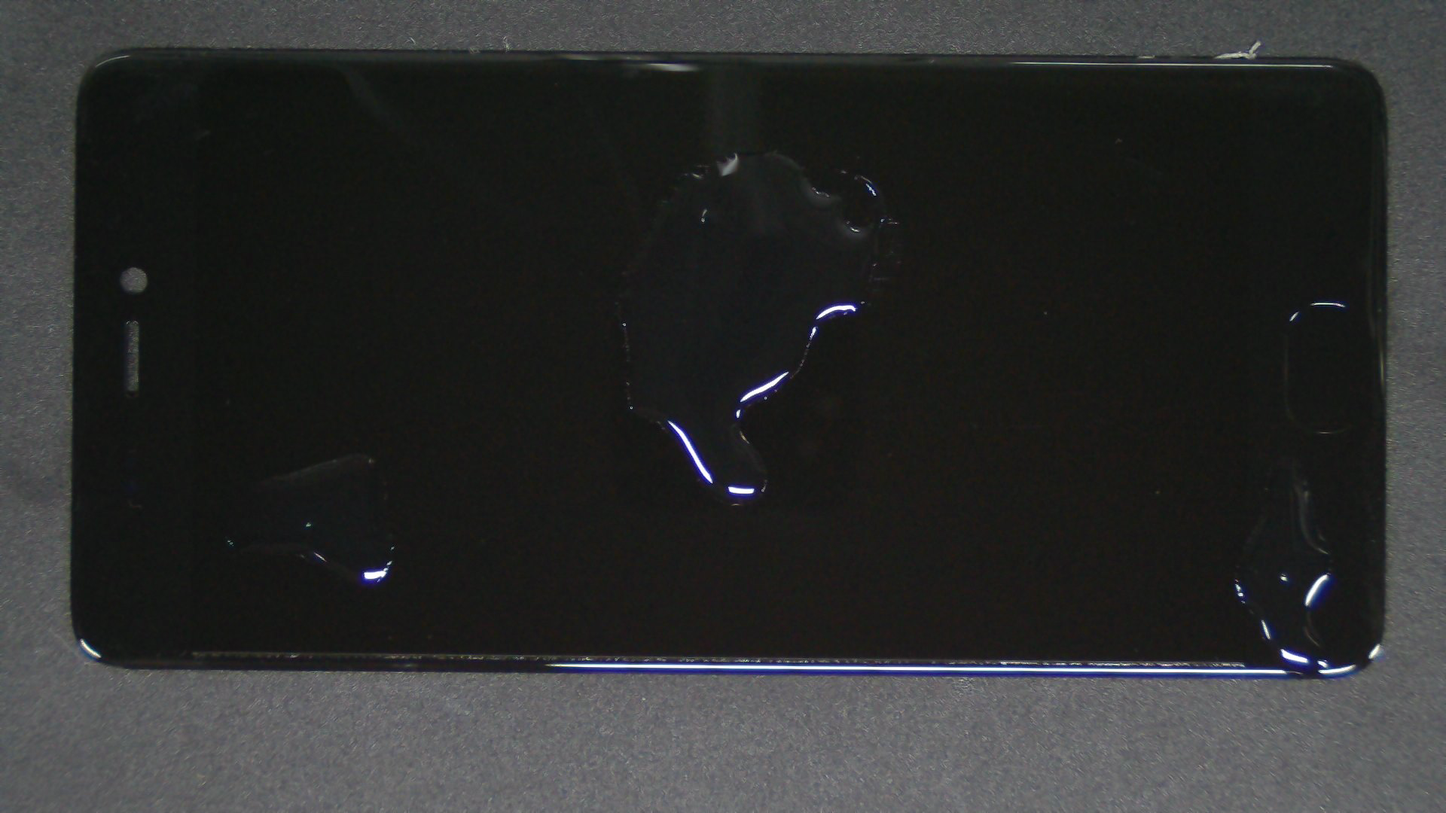oil: (580, 128, 963, 520), (201, 398, 436, 612), (1189, 451, 1372, 683)
